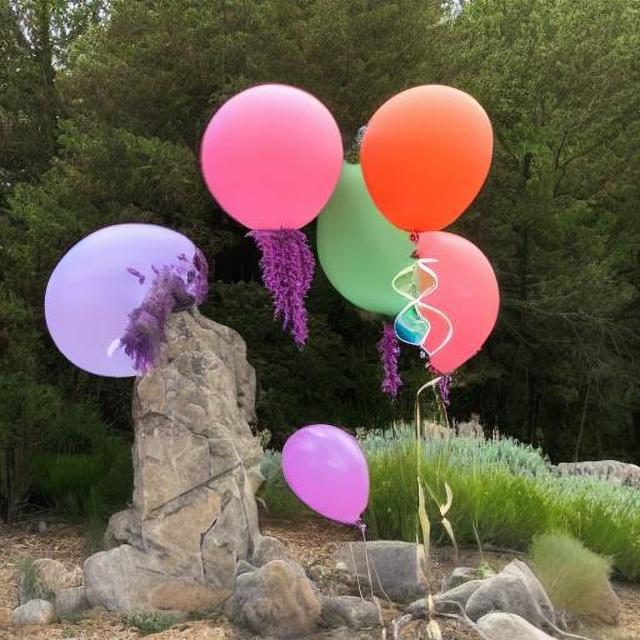balloon: (180, 81, 503, 377), (41, 218, 206, 383), (281, 425, 381, 532)
